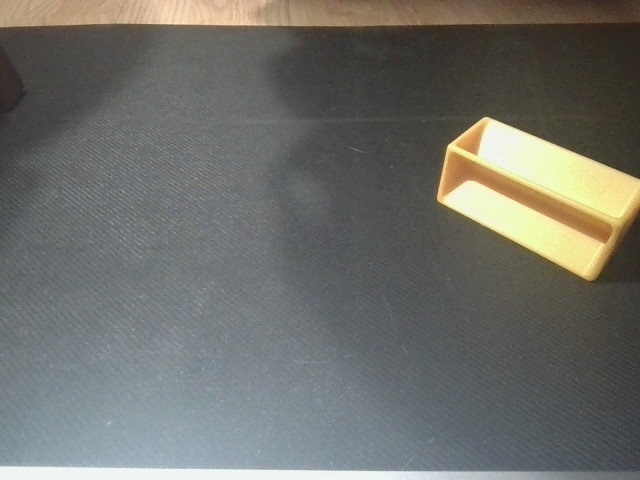YellowSample: (432, 111, 640, 286)
